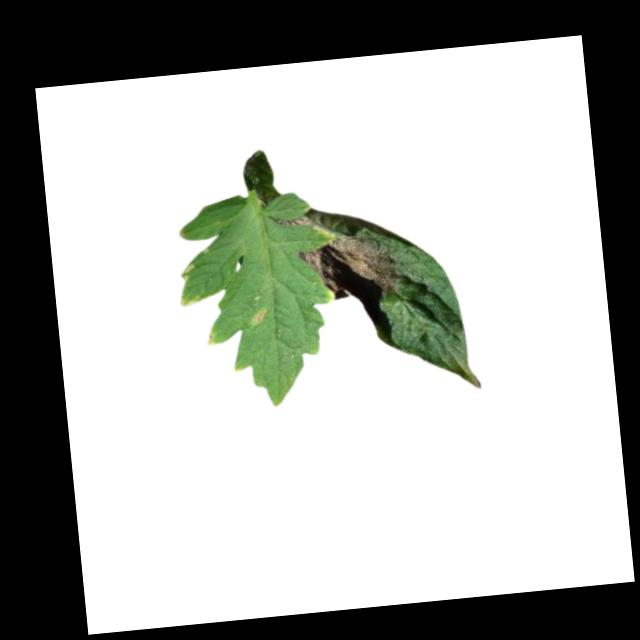Late_blight: (289, 207, 401, 305), (249, 308, 269, 327), (179, 263, 197, 282), (176, 294, 196, 308), (203, 330, 218, 346)
